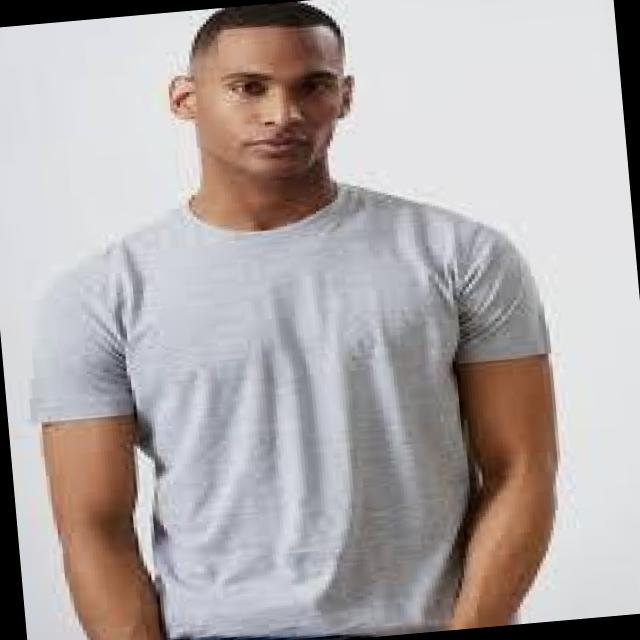Tshirt: (7, 160, 576, 640)
